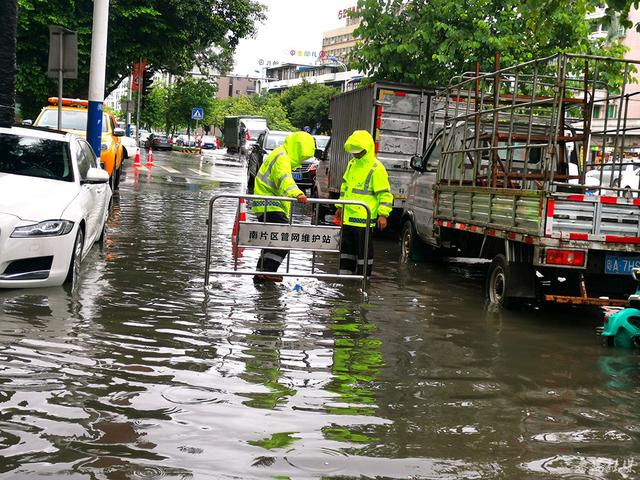puddle: (1, 265, 640, 480)
